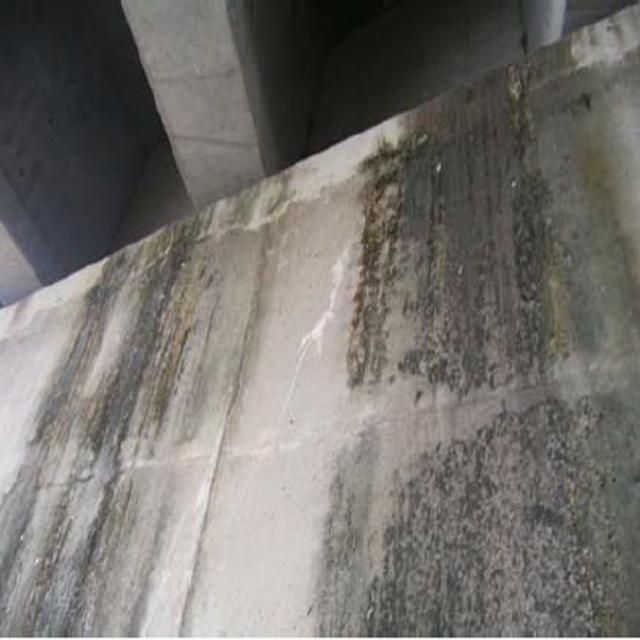leakage: (358, 47, 626, 640)
